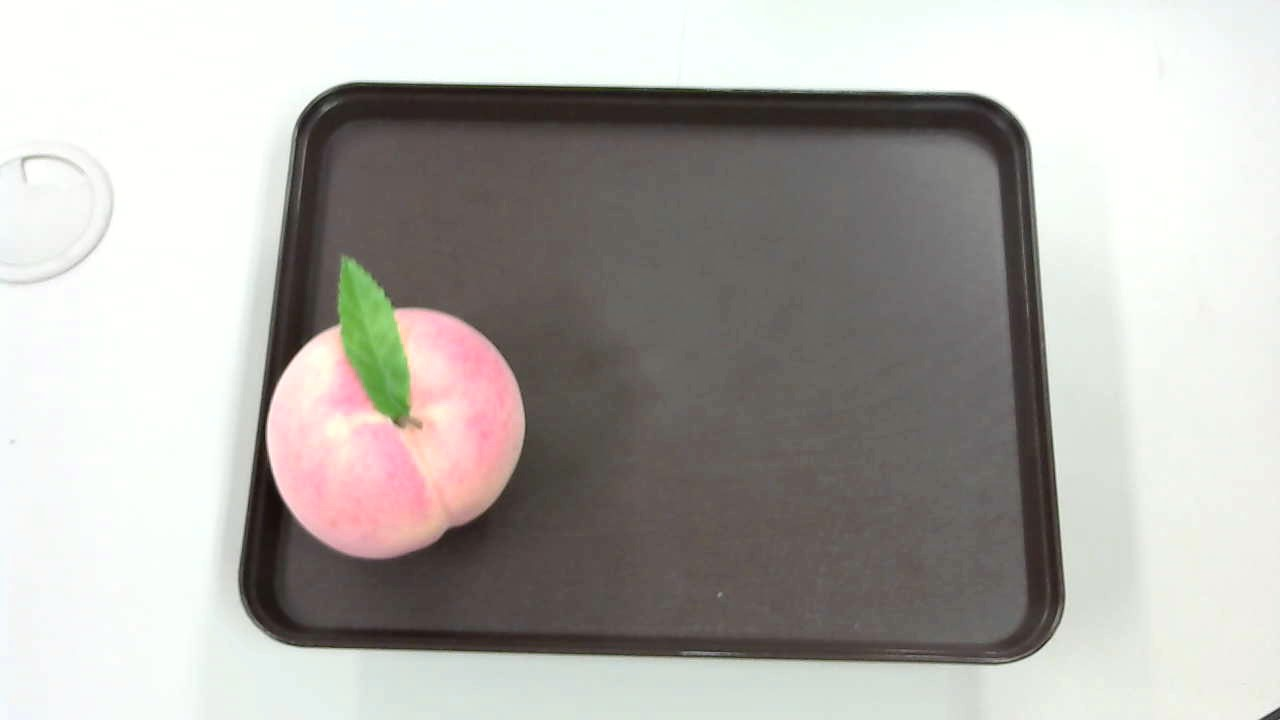peach: (262, 252, 535, 566)
